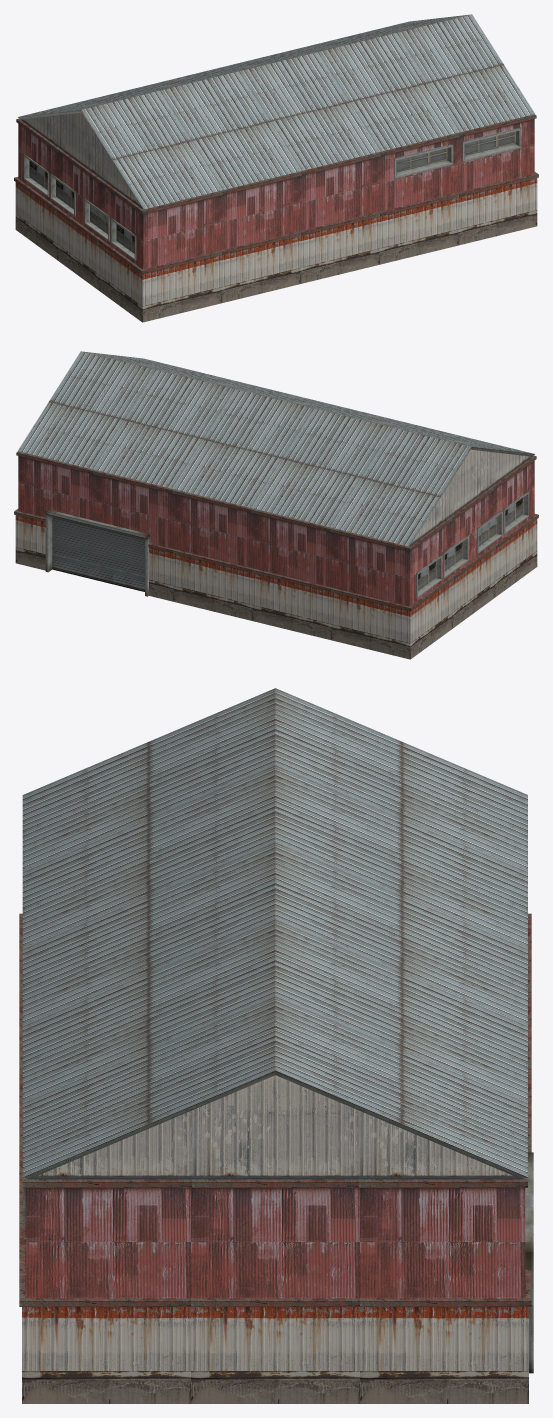
Rendered from Hangar_v2_1.FBX.
3 views of the same model, one above another, from view 1: azimuth 30°, elevation 25°; view 2: azimuth 150°, elevation 25°; view 3: azimuth 270°, elevation 25° (orthographic). The views are drawn at different scales.
Parts seen in each view (by area): view 1: Hangar_v2_1; view 2: Hangar_v2_1; view 3: Hangar_v2_1.
Part boxes in pixels (bbox=[...]): Hangar_v2_1: bbox=[14, 14, 538, 322]; Hangar_v2_1: bbox=[14, 351, 538, 659]; Hangar_v2_1: bbox=[19, 688, 533, 1403].
Size of the model in its own units: 24.78 by 9.9 by 13.9.
